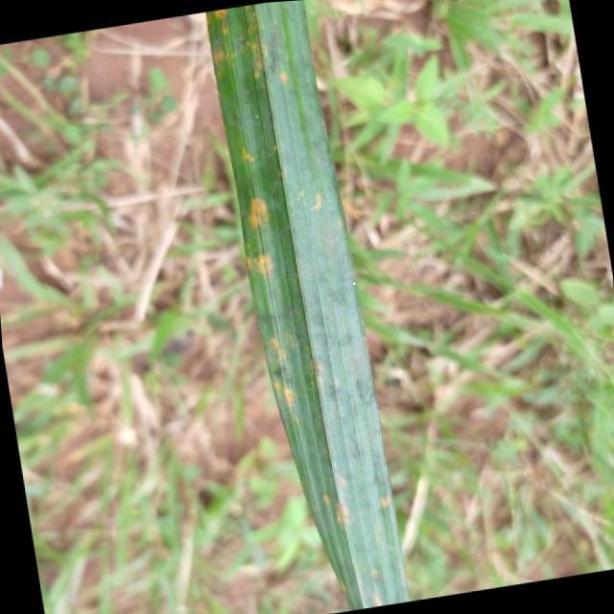Kalium: (203, 0, 413, 608)
